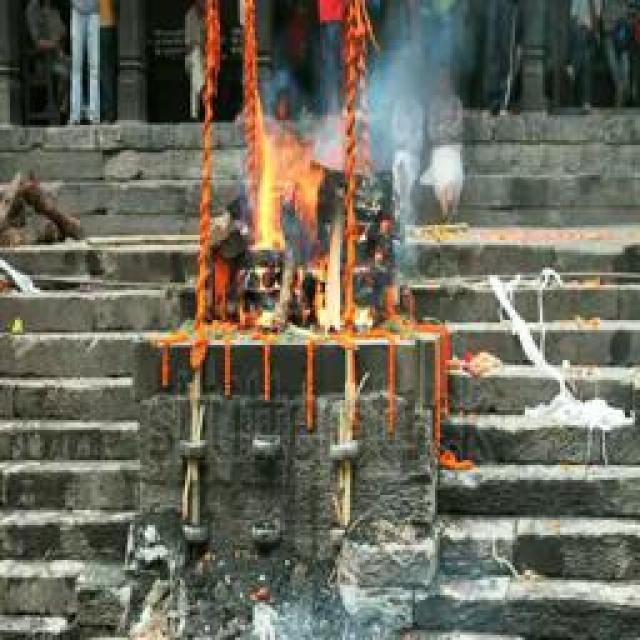Fire: (246, 103, 344, 336)
